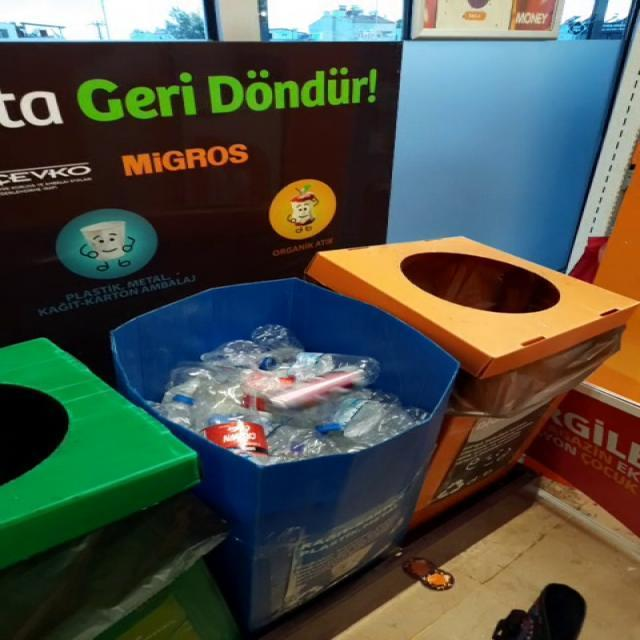Metal: (267, 370, 367, 410)
